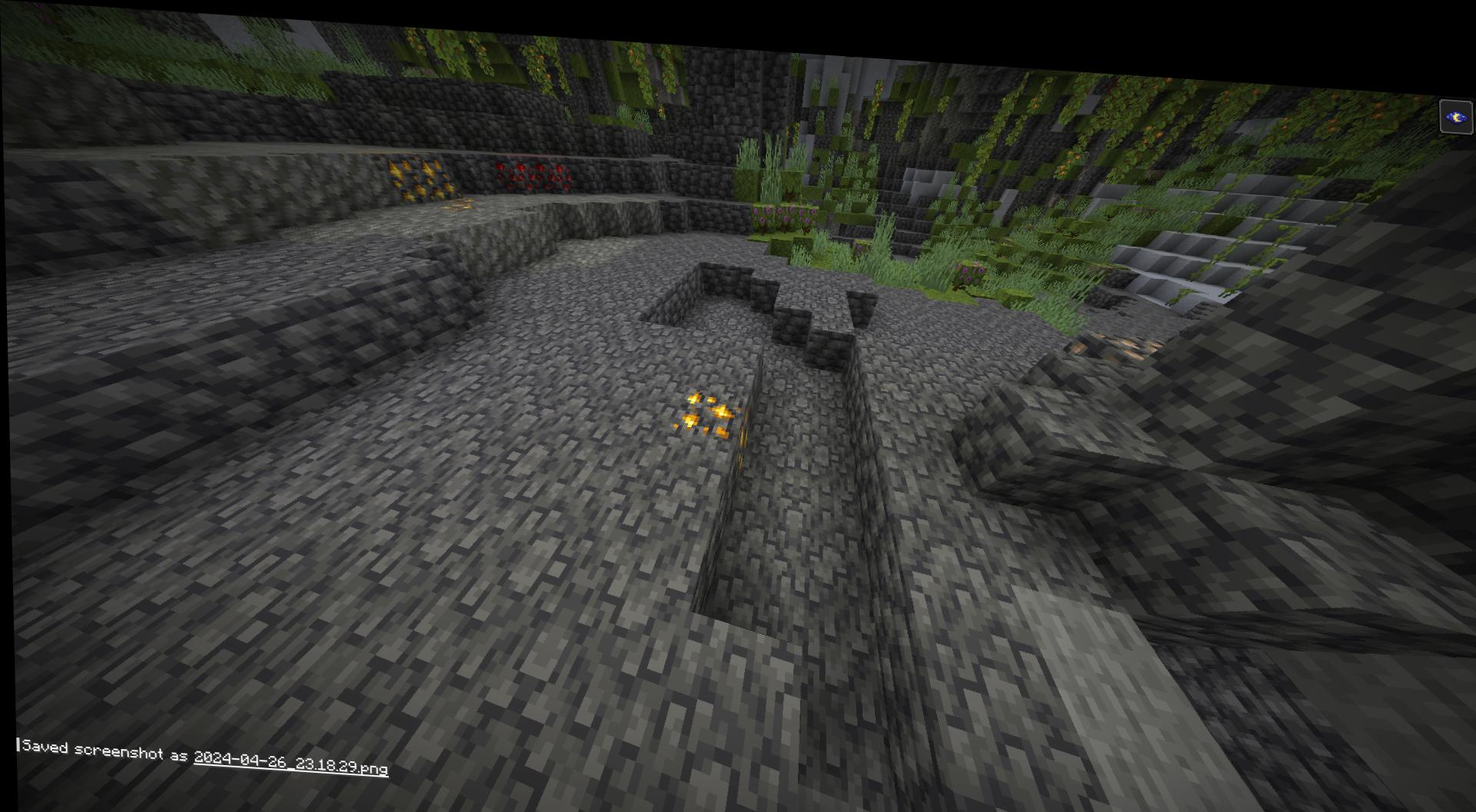gold ore: (669, 377, 738, 439), (408, 140, 460, 192), (373, 141, 423, 194)
redstone ore: (529, 146, 579, 188), (491, 142, 534, 187)
